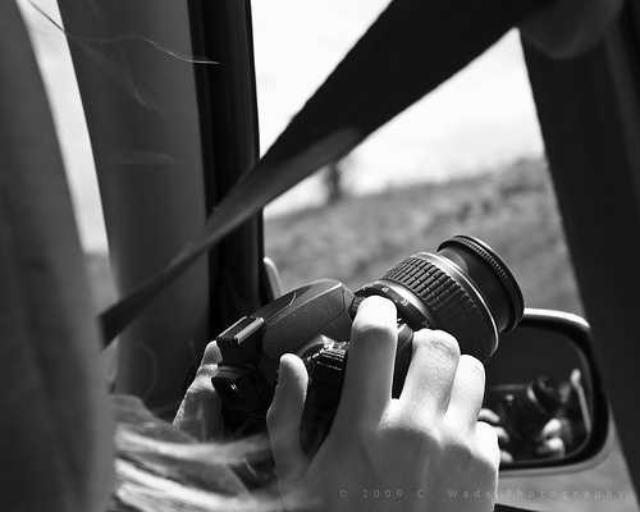Seatbelt: (77, 0, 541, 354)
